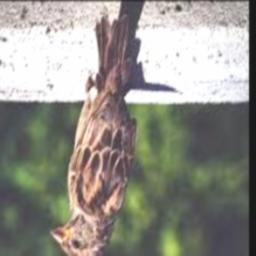Sparrow: (51, 14, 138, 256)
